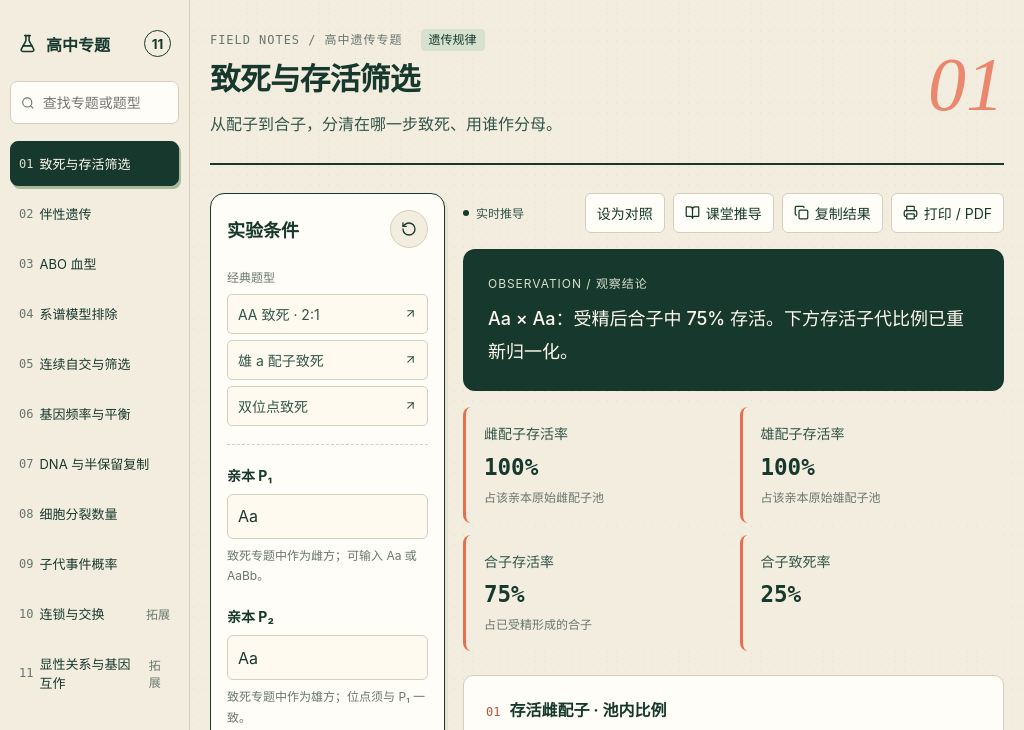
Scenario: searches topics and explains an empty match
Type "DNA" into the search field labelled "查找专题" at (105, 102), box [43,82,168,123]
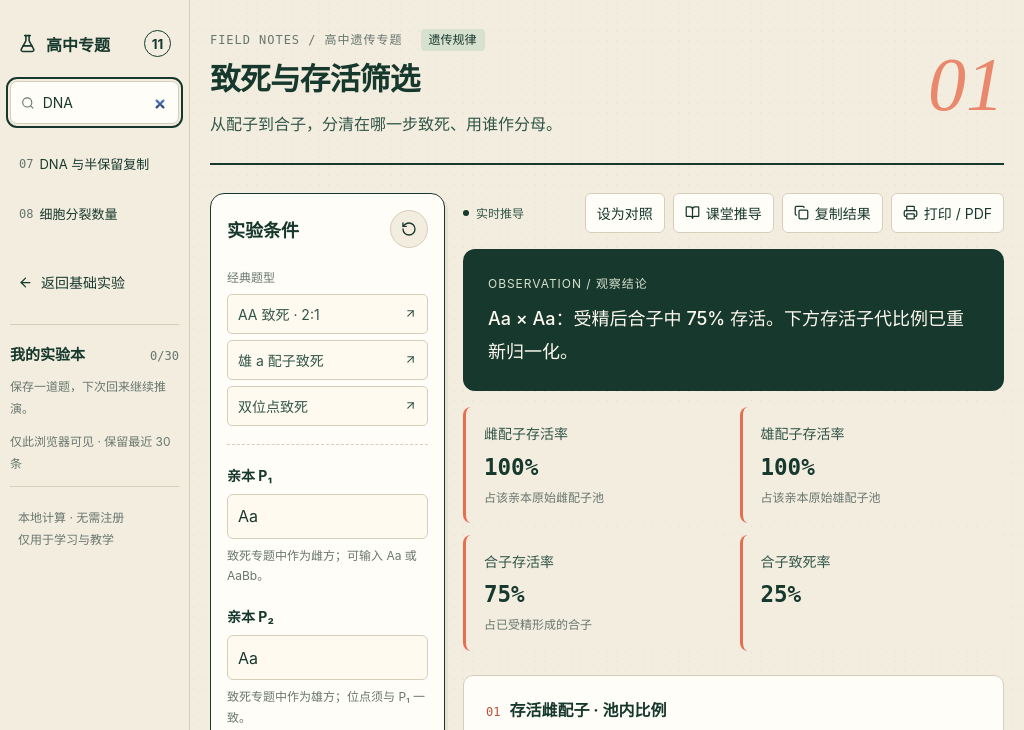
Check: the button "07 DNA 与半保留复制" is shown, box [10,141,179,186]
Check: the button "伴性遗传" is gone
Replace the text in the search field named "查找专题" with "不存在的专题" at (105, 102), box [43,82,168,123]
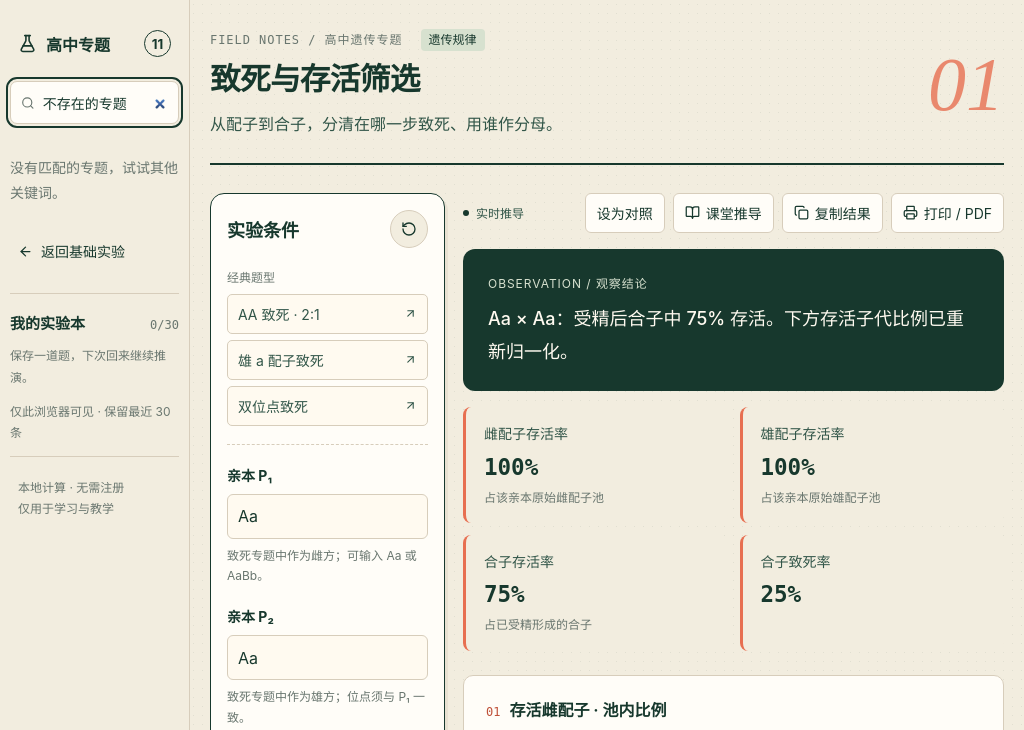
Check: the text "没有匹配的专题，试试其他关键词。" is shown, box [10,155,179,205]
